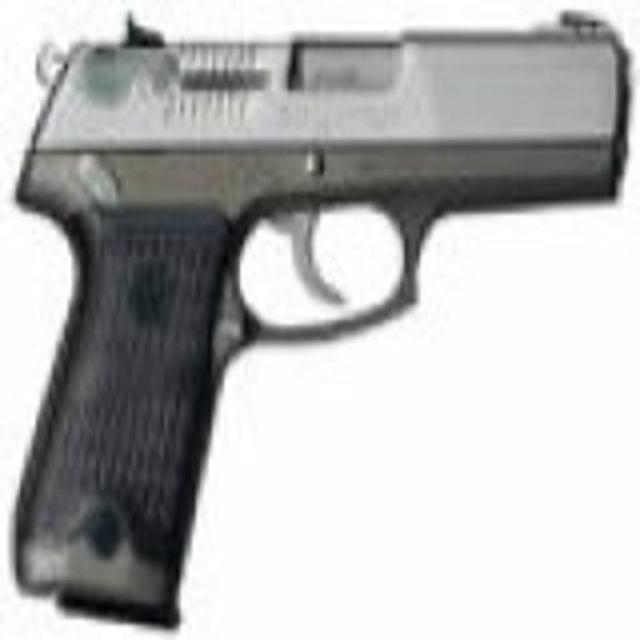pistol: (15, 5, 631, 617)
